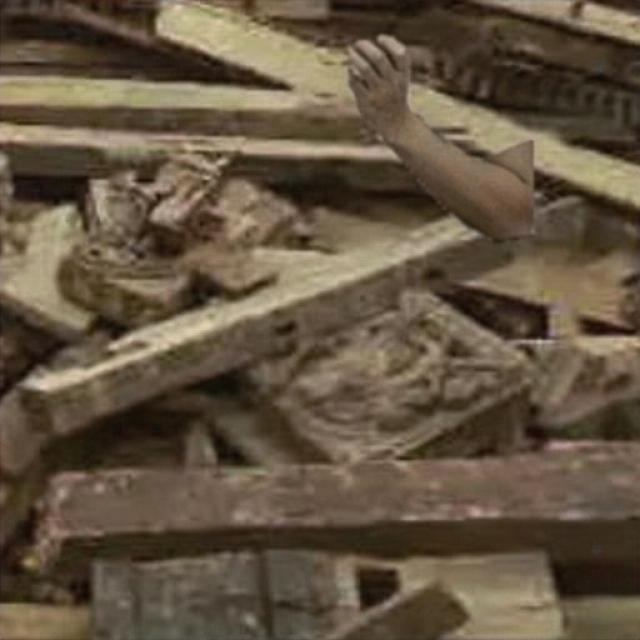Person in Rubble: (348, 34, 532, 242)
